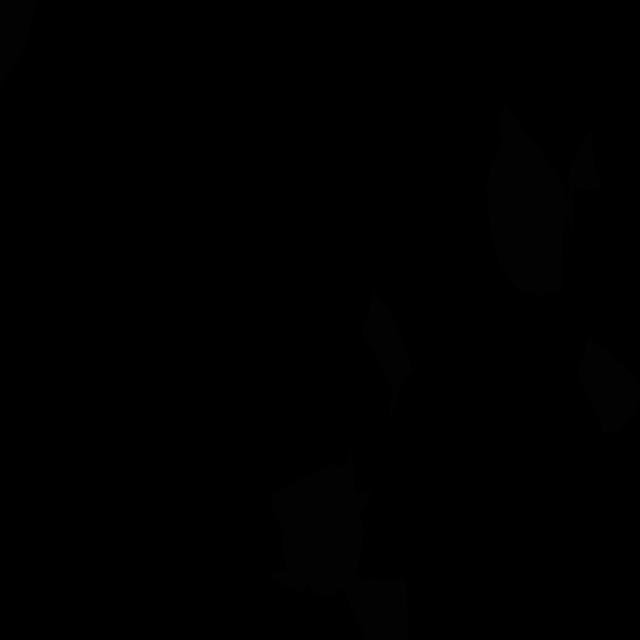cardboard: (270, 433, 409, 640), (486, 103, 565, 296), (362, 289, 412, 416), (578, 337, 640, 433), (564, 130, 601, 231)
